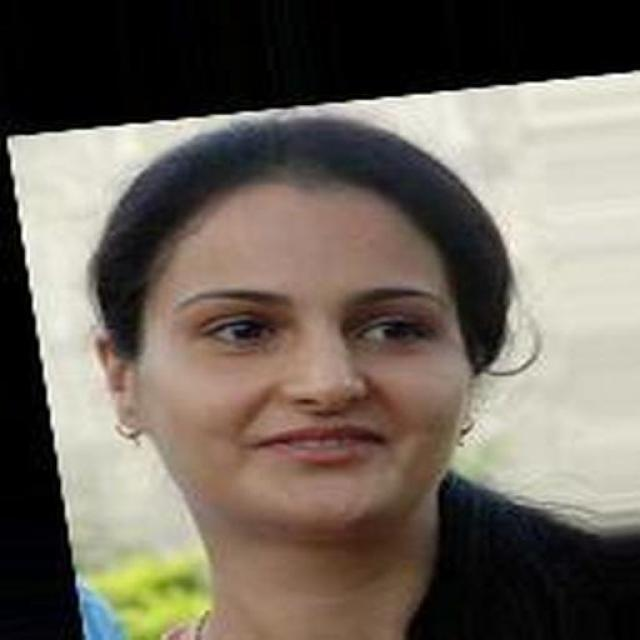bareface: (132, 195, 471, 516)
